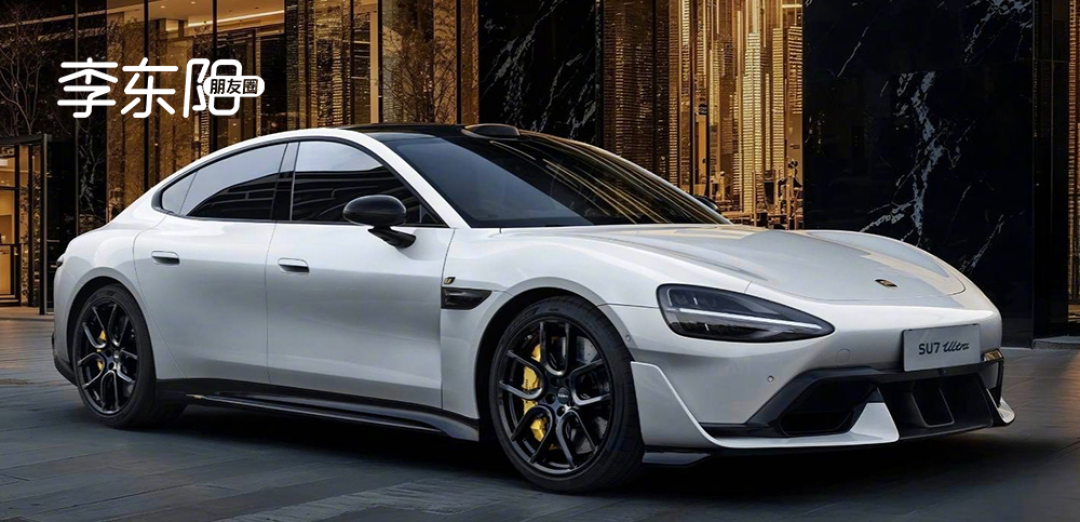su7: (58, 111, 1011, 480)
